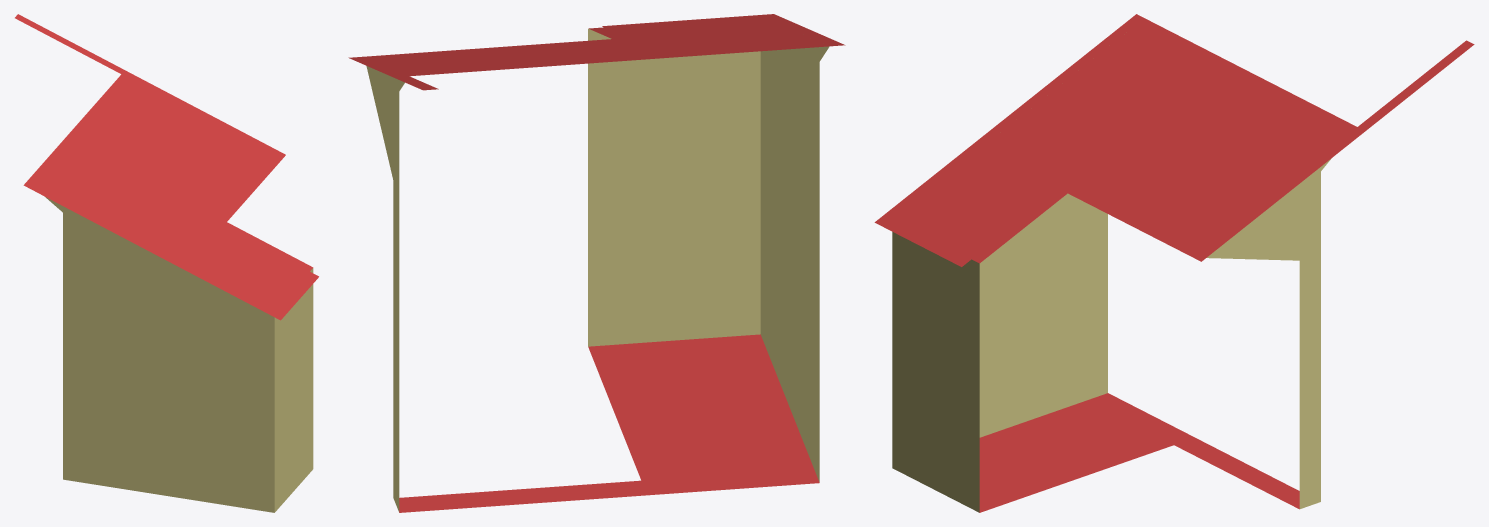
3 views of the same model, side by side, from view 1: azimuth 30°, elevation 25°; view 2: azimuth 150°, elevation 25°; view 3: azimuth 270°, elevation 25° (orthographic). The views are drawn at different scales.
Size of the model in its own units: 8.08 by 11.75 by 8.87.
